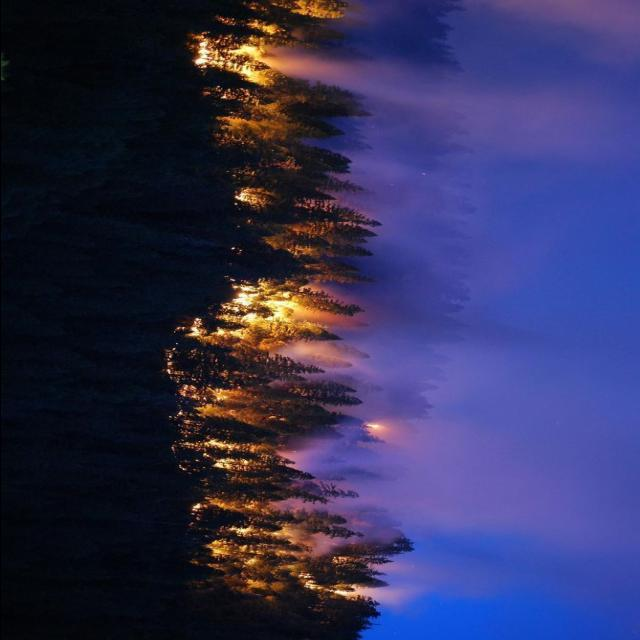Fire: (172, 289, 350, 596), (188, 5, 282, 116)
